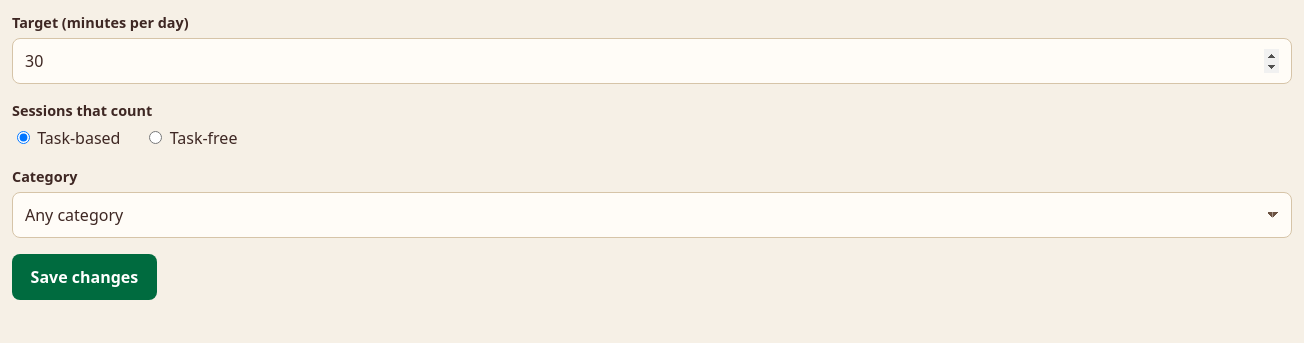
StreakConfigurationForm › rejects a target below the minimum without submitting
The width and height of the screenshot is (1304, 343).
Replace the text in the number field labelled "Target (minutes per day)" with "3" at (652, 61), box [12,38,1292,84]
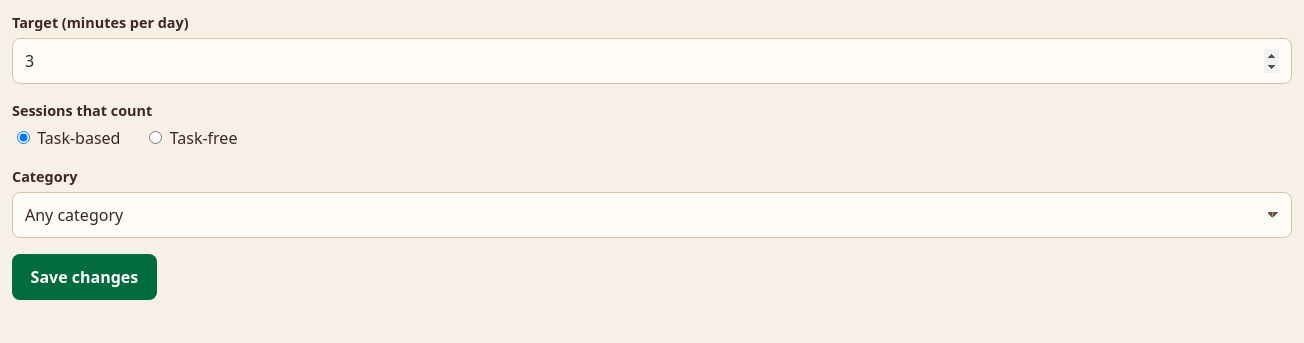
Submit the form
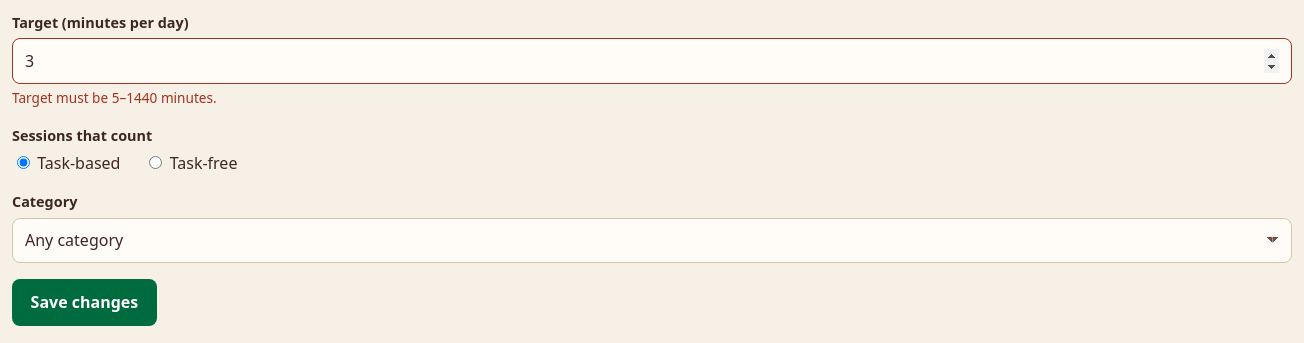
Result: the form shows "5–1440 minutes" at [12,88,217,107]
